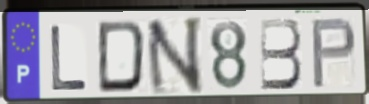8: (206, 17, 250, 94)
B: (257, 16, 305, 93)
D: (95, 18, 149, 95)
L: (48, 23, 89, 93)
N: (143, 14, 205, 98)
P: (309, 16, 359, 91)
